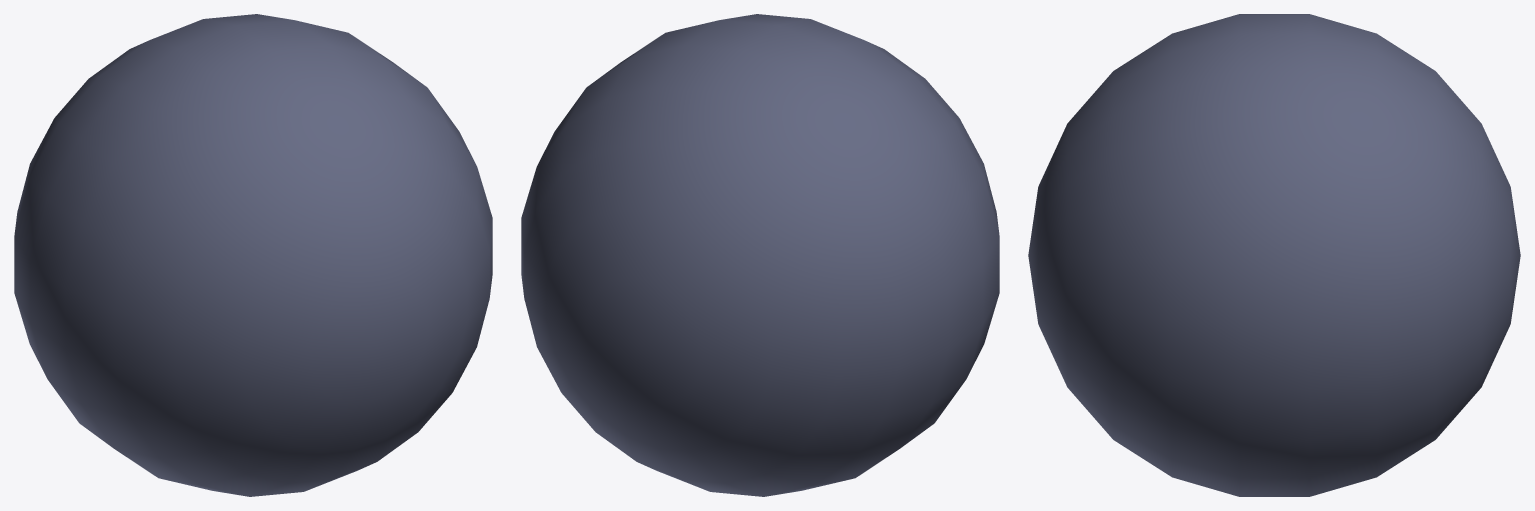
Rendered from paodan.FBX.
3 renders of one model, left to right at view 1: azimuth 30°, elevation 25°; view 2: azimuth 150°, elevation 25°; view 3: azimuth 270°, elevation 25°, orthographic.
Parts seen in each view (by area): view 1: Sphere007; view 2: Sphere007; view 3: Sphere007.
Boxes of the visible parts, <box> form: Sphere007: <box>14,14,492,496</box>; Sphere007: <box>521,14,999,496</box>; Sphere007: <box>1028,14,1520,496</box>.
Bounding box in the file's own units: 62.84 × 63.48 × 64.14.
